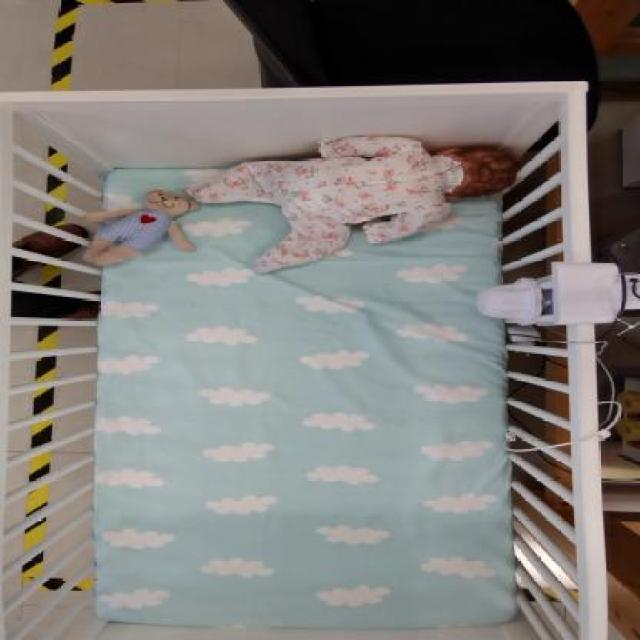baby: (186, 134, 525, 275)
